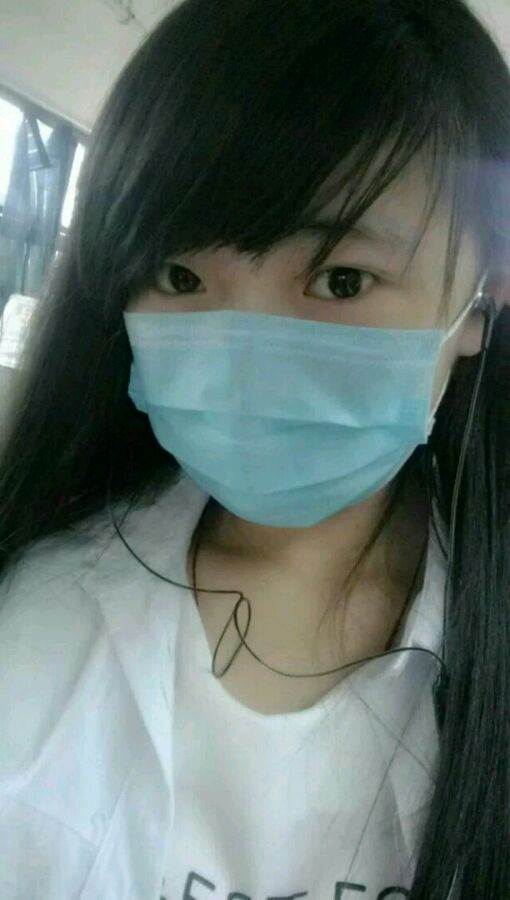face_mask: (123, 143, 459, 523)
